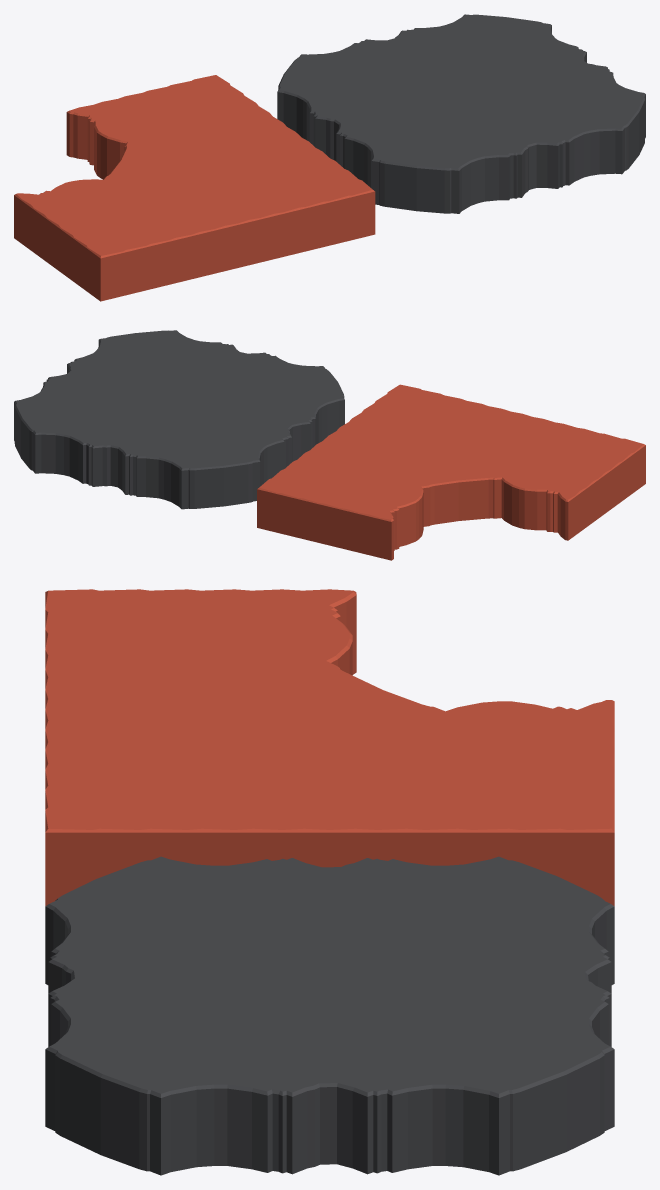
The model's file is mahsulot.glb.
3 views of the same model, one above another, from view 1: azimuth 30°, elevation 25°; view 2: azimuth 150°, elevation 25°; view 3: azimuth 270°, elevation 25° (orthographic). The views are drawn at different scales.
Visible parts, largest first — view 1: mahsulot_B, mahsulot_A; view 2: mahsulot_A, mahsulot_B; view 3: mahsulot_B, mahsulot_A.
Part boxes in pixels (bbox=[...]): mahsulot_B: bbox=[277, 14, 645, 213]; mahsulot_A: bbox=[14, 75, 375, 301]; mahsulot_A: bbox=[257, 384, 645, 560]; mahsulot_B: bbox=[14, 330, 344, 509]; mahsulot_B: bbox=[45, 856, 614, 1175]; mahsulot_A: bbox=[45, 589, 614, 905].
Bounding box in the file's own units: 0.61 × 0.045 × 0.29.
